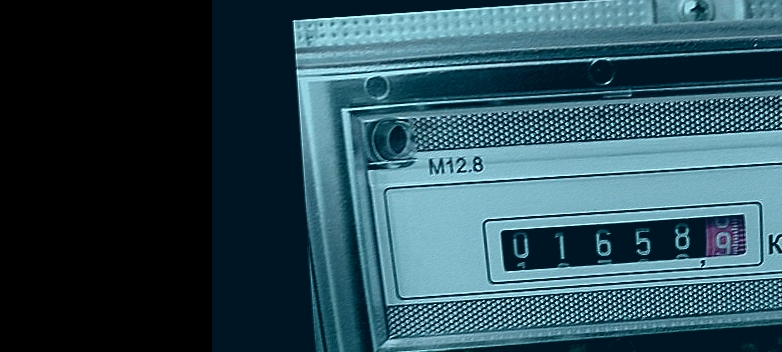0: (509, 227, 532, 260)
1: (553, 228, 568, 260)
5: (633, 224, 654, 257)
6: (593, 225, 615, 258)
8: (672, 219, 693, 252)
9: (713, 228, 732, 256)
screen: (475, 191, 771, 289)
